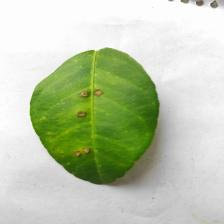canker: (66, 76, 126, 166)
